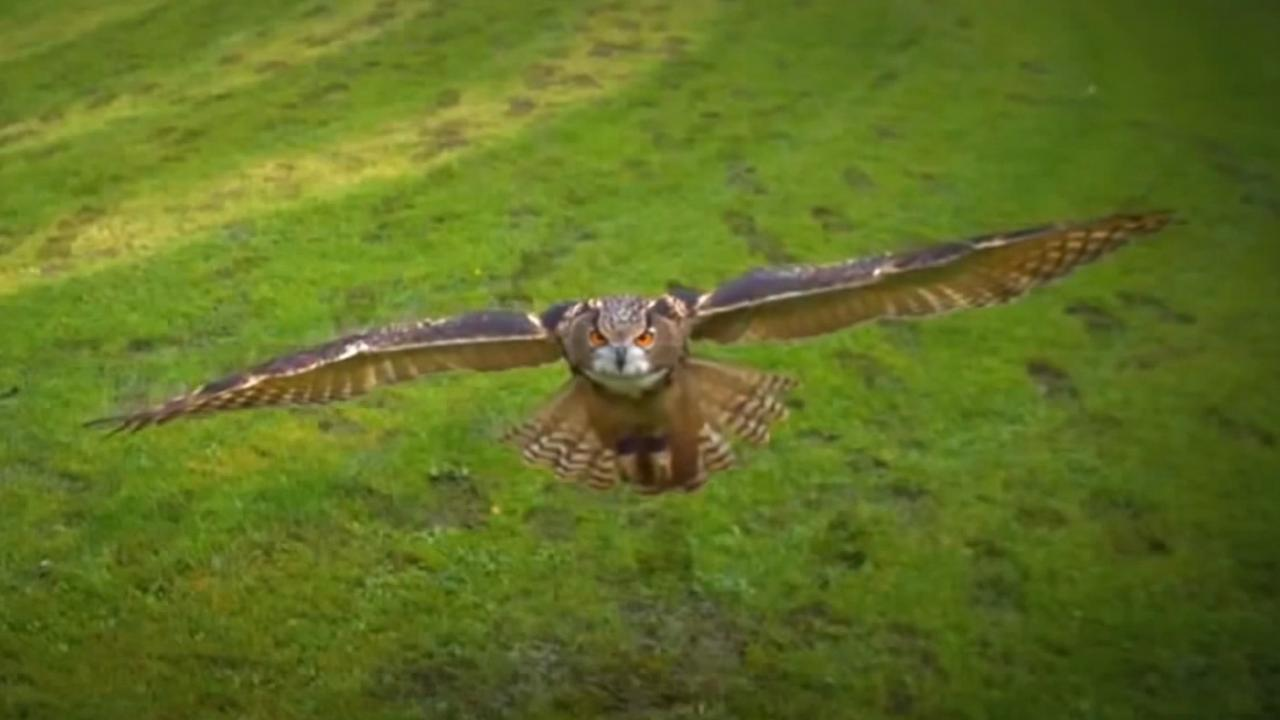Bird: (69, 197, 1204, 507)
